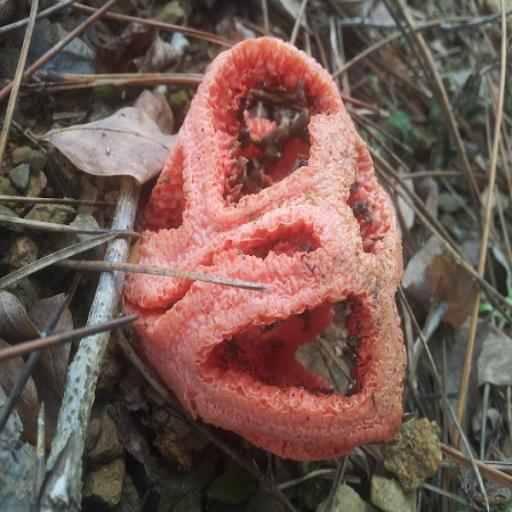Red Cage Fungus: (121, 35, 408, 462)
